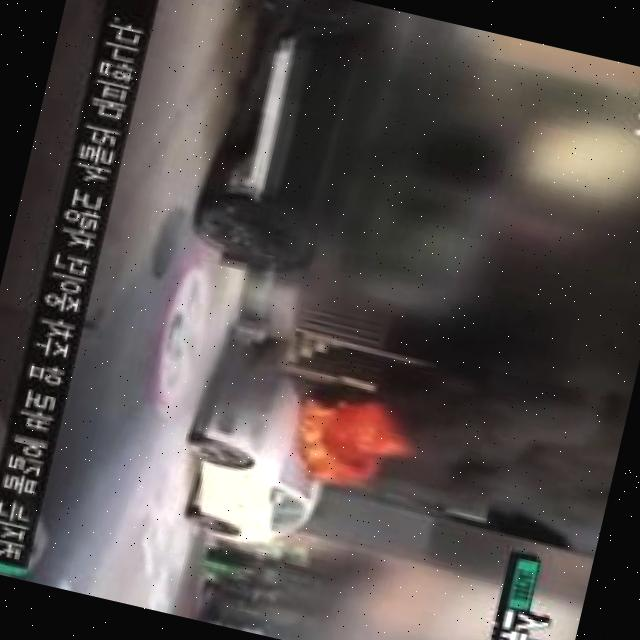fire: (289, 384, 425, 500)
